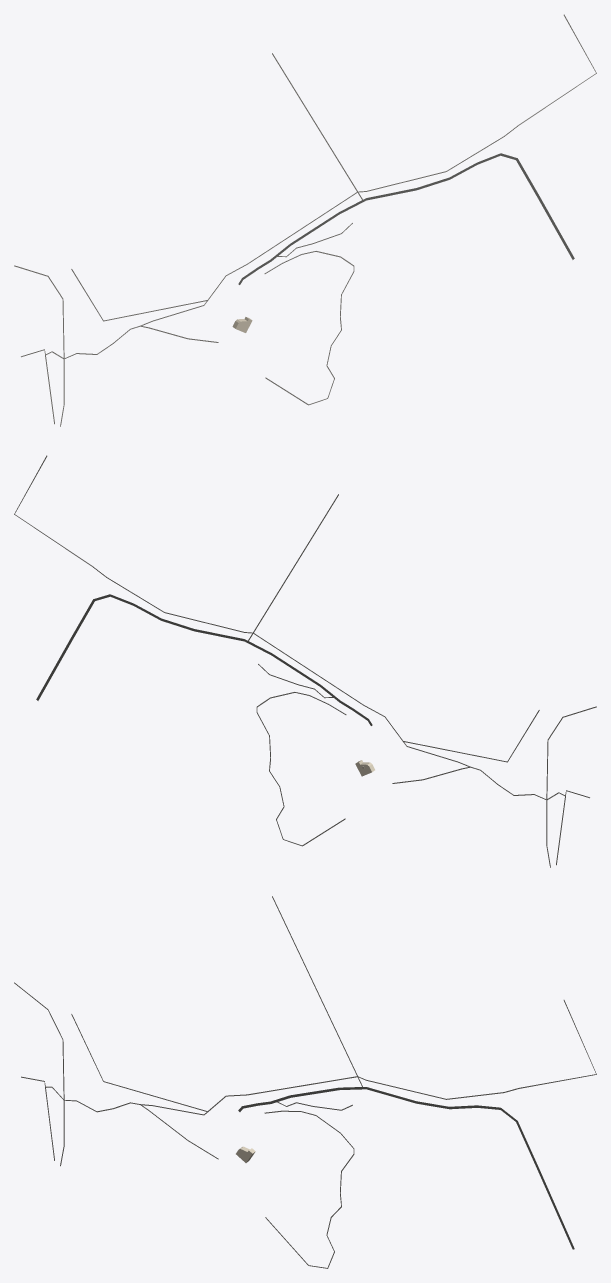
The model's file is historic-palestine-07_18_3487_3123.glb.
3 views of the same model, one above another, from view 1: azimuth 30°, elevation 25°; view 2: azimuth 150°, elevation 25°; view 3: azimuth 330°, elevation 25° (orthographic).
Parts seen in each view (by area): view 1: Road, Road .002; view 2: Road, Road .002; view 3: Road, Road .002.
Boxes of the visible parts, <box> form: Road: <box>238,153,574,284</box>; Road .002: <box>140,14,596,326</box>; Road: <box>36,594,372,725</box>; Road .002: <box>14,455,470,767</box>; Road: <box>238,1087,574,1249</box>; Road .002: <box>140,1000,596,1115</box>.
Bounding box in the file's own units: 795 × 470 × 8.7.
